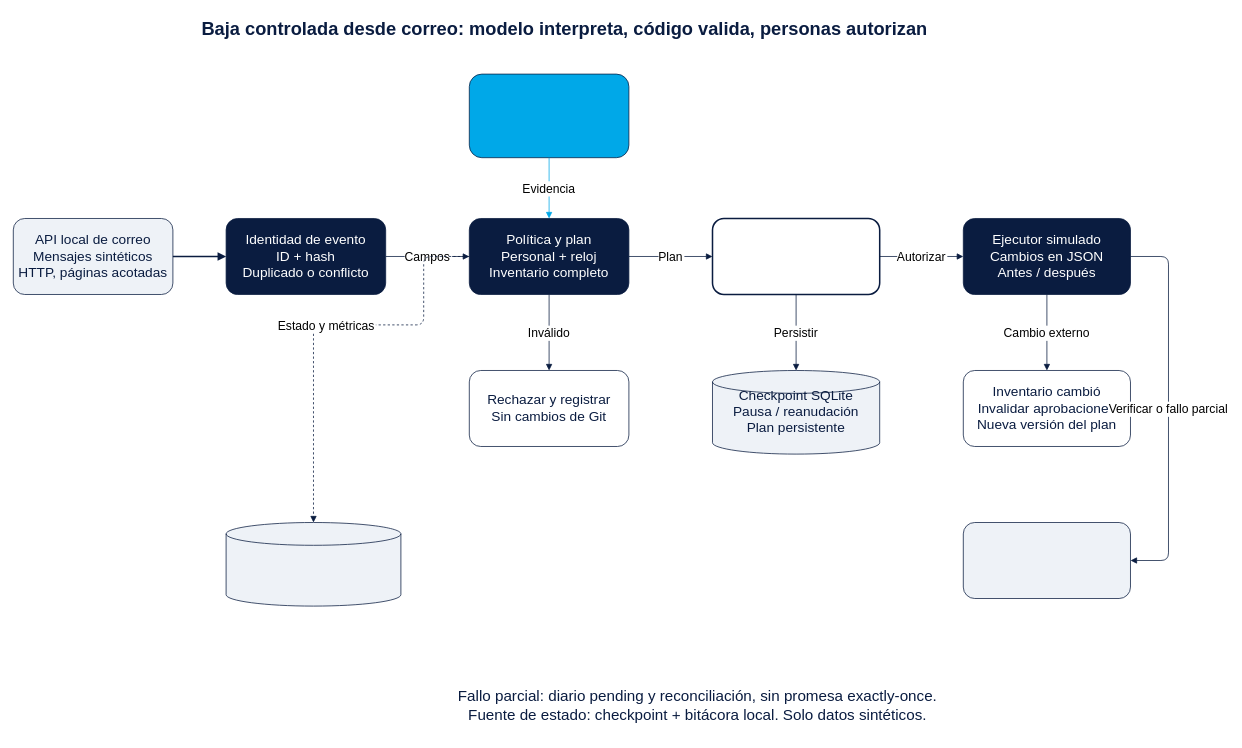
Some shapes in this 1242 by 748 pixel diagram are drawn without their labels. The shapes that lost their labels are listed below. From the top down, each one's centre as x and y in pixels, then its label:
(549,115): Formulario: reglas Prosa libre: LLM real Sin tools de escritura
(795,256): Dos roles humanos Hash + versión CLI: identidad declarada
(313,564): MLflow local autenticado Run por segmento + spans Observa, no autoriza
(1046,560): Cierre comprobado Pendientes y fallos Borrador, no envío
